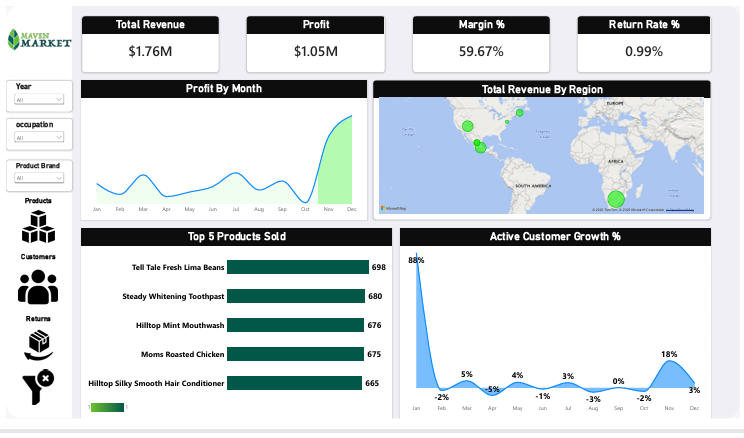

This screenshot's page, from the dashboard's own definition file:
{"tool":"powerbi","page":{"name":"Over View","canvas":[1920,1080],"ordinal":1},"visuals":[{"type":"card","title":"Total Revenue","fields":{"Values":["_Measure.Total Revenue"]},"box":[197.7,25.5,359.3,148.8],"z":0},{"type":"card","title":"Profit","fields":{"Values":["_Measure.Profit"]},"box":[628.6,25.5,363.5,148.8],"z":1000},{"type":"card","title":"Margin %","fields":{"Values":["_Measure.Margin%"]},"box":[1063.7,25.5,359.3,148.8],"z":2000},{"type":"card","title":"Return Rate %","fields":{"Values":["_Measure.Return Rate %"]},"box":[1494.6,25.5,350.8,148.8],"z":3000},{"type":"image","box":[0,0,174.3,174.3],"z":4000},{"type":"lineChart","title":"Profit By Month","fields":{"Y":["_Measure.Profit"],"Category":["DimCalendar.Short Month"]},"box":[196.5,194,748.3,365.4],"z":5000},{"type":"map","title":"Total Revenue By Region","fields":{"Size":["_Measure.Total Revenue"],"Category":["DimRegions.sales_region"]},"box":[960,194,884.4,365.4],"z":6000},{"type":"barChart","title":"Top 5 Products Sold","fields":{"Y":["_Measure.Total Qty Sold"],"Category":["DimProducts.product_name"]},"box":[196.5,582,813.9,498.9],"z":7000},{"type":"lineChart","title":"Active Customer Growth %","fields":{"Y":["_Measure.Customer Growth"],"Category":["DimCalendar.Short Month"]},"box":[1030.6,582,813.9,498.9],"z":8000},{"type":"slicer","fields":{"Values":["DimCalendar.Year"]},"box":[0,194,173.9,83.1],"z":9000},{"type":"slicer","fields":{"Values":["DimCustomers.occupation"]},"box":[0,293.4,173.9,83.1],"z":10000},{"type":"slicer","fields":{"Values":["DimProducts.product_brand"]},"box":[0,401.8,173.9,83.1],"z":11000},{"type":"image","title":"Products","box":[23.4,497.5,121.2,121.2],"z":11001},{"type":"image","title":"Returns","box":[10.6,805.7,148.8,125.4],"z":11002},{"type":"image","title":"Customers","box":[23.4,646.3,121.2,140.3],"z":11003},{"type":"image","box":[17,952.4,133.9,93.5],"z":11004}]}

Visuals, with their boxes on the page's 1920x1080 design canvas (x1, y1, x2, y2). These are canvas units, not pixel positions in the 744x438 screenshot, which may show the page scaled, cropped or inside an application window:
"Total Revenue" card: (198,26,557,174)
"Profit" card: (629,26,992,174)
"Margin %" card: (1064,26,1423,174)
"Return Rate %" card: (1495,26,1845,174)
image: (0,0,174,174)
"Profit By Month" lineChart: (196,194,945,559)
"Total Revenue By Region" map: (960,194,1844,559)
"Top 5 Products Sold" barChart: (196,582,1010,1081)
"Active Customer Growth %" lineChart: (1031,582,1844,1081)
slicer - DimCalendar.Year: (0,194,174,277)
slicer - DimCustomers.occupation: (0,293,174,376)
slicer - DimProducts.product_brand: (0,402,174,485)
"Products" image: (23,498,145,619)
"Returns" image: (11,806,159,931)
"Customers" image: (23,646,145,787)
image: (17,952,151,1046)
